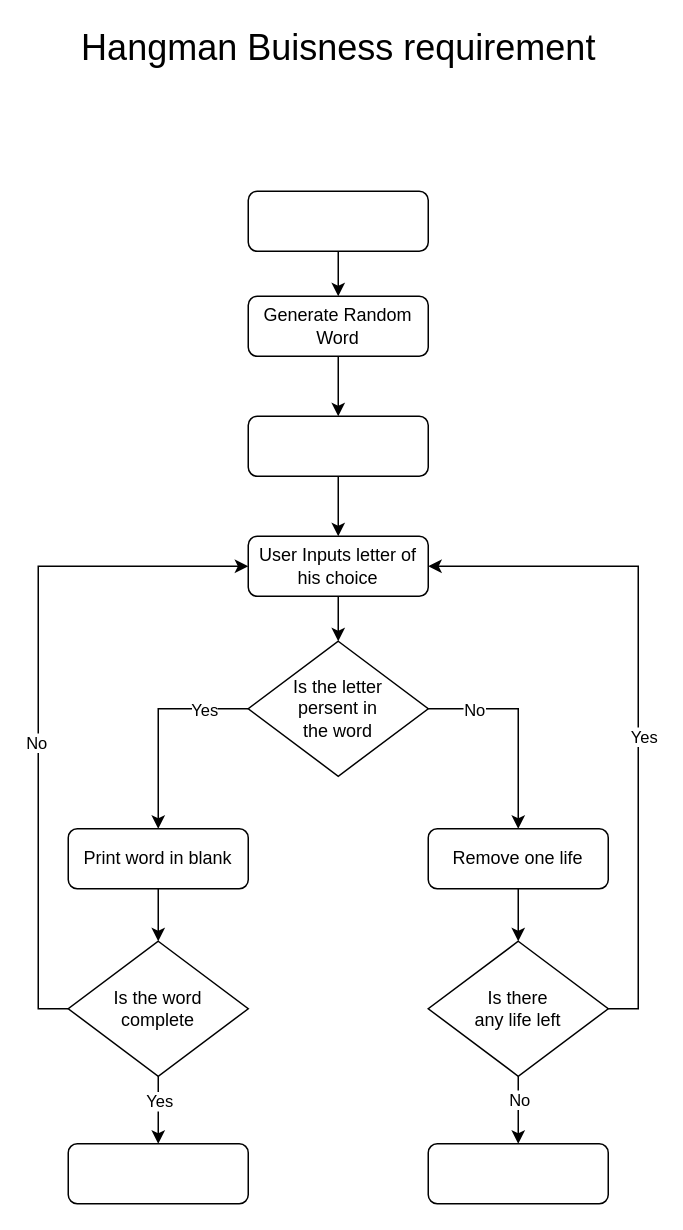
Some shapes in this 683 by 1230 pixel diagram are drawn without their labels. The shapes that lost their labels are listed below. From the top down, each one's box as (x1, y1, x2, y2) in pixels, then its label:
(247, 190, 428, 251): Start
(247, 415, 428, 476): Print the blank spaces for the word
(67, 1142, 248, 1204): Success
(427, 1142, 608, 1204): Failed
